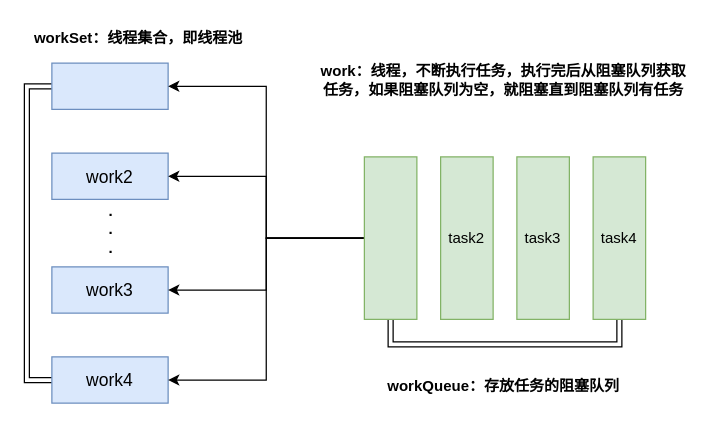
This 718x425 diagram has some shape labels left out. Here are the shapes that lost their labels. From the top down, the centre of each, then its label:
At (109,85): "work1".
At (390,237): "task1".
